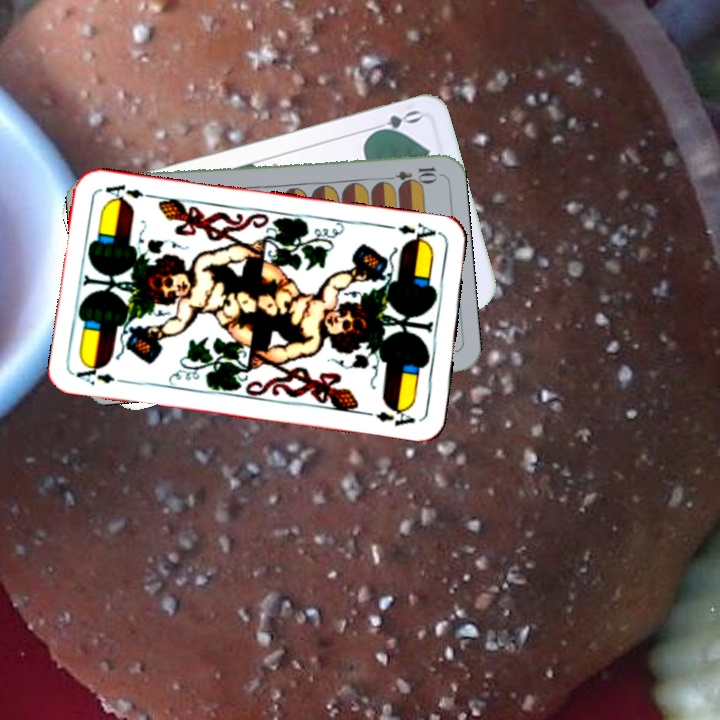E10: (380, 163, 440, 185)
EA: (72, 361, 131, 388), (394, 218, 444, 248)
GO: (365, 105, 424, 139)
